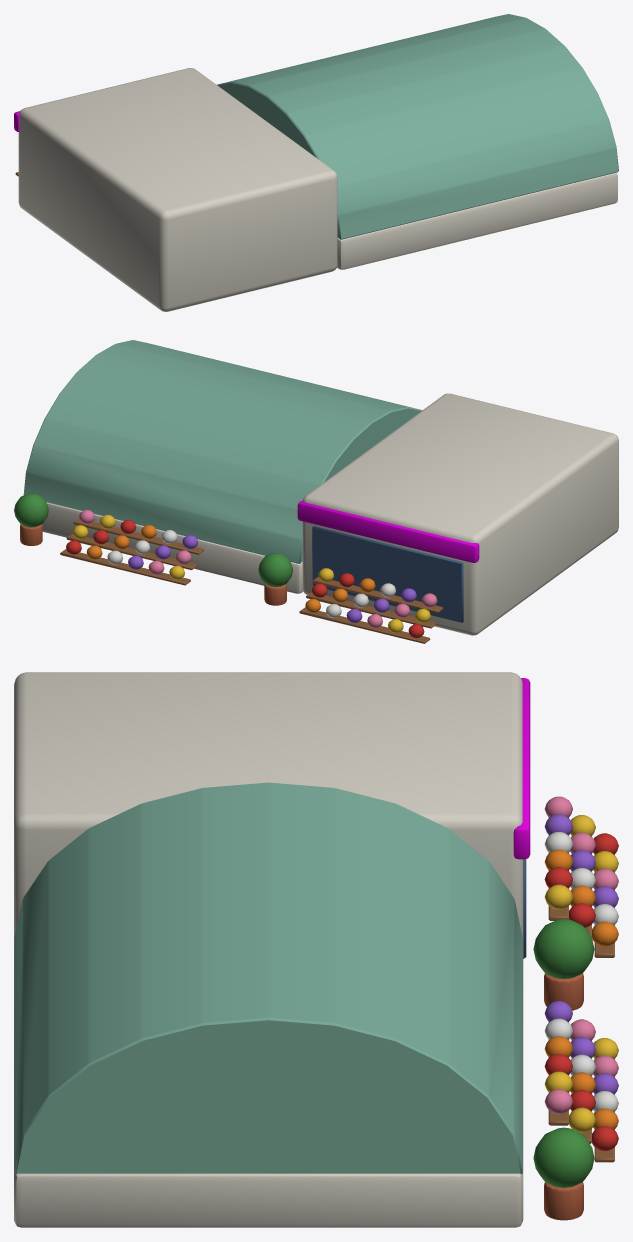
The model's file is Poi_Florist.fbx.
The picture shows the model from 3 angles, top to bottom: view 1: azimuth 30°, elevation 25°; view 2: azimuth 150°, elevation 25°; view 3: azimuth 270°, elevation 25°; orthographic projection. The views are drawn at different scales.
Parts seen in each view (by area): view 1: Poi_Florist; view 2: Poi_Florist; view 3: Poi_Florist.
Part boxes in pixels (left/top/right/bottom): Poi_Florist: left=14, top=14, right=618, bottom=311; Poi_Florist: left=14, top=340, right=618, bottom=643; Poi_Florist: left=14, top=672, right=618, bottom=1227.
Bounding box in the file's own units: 18.05 × 4.6 × 11.88.
